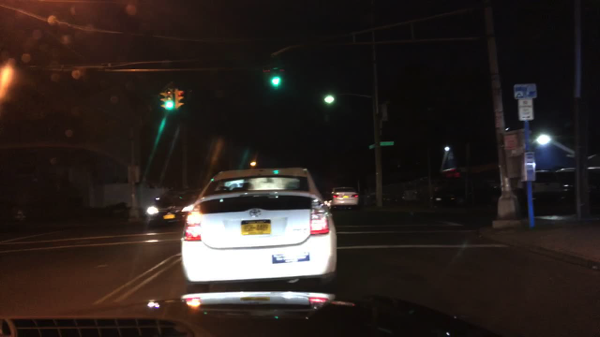car: (179, 167, 341, 294), (146, 194, 193, 230), (330, 187, 359, 211), (431, 190, 459, 207)
traffic light: (271, 69, 282, 88), (176, 87, 184, 109), (262, 67, 268, 89), (166, 90, 172, 109), (159, 93, 164, 107)
traffic sign: (513, 86, 539, 100), (518, 98, 534, 118), (522, 153, 535, 165), (380, 141, 394, 146), (367, 145, 375, 150)
